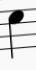HC: (4, 8, 26, 62)
